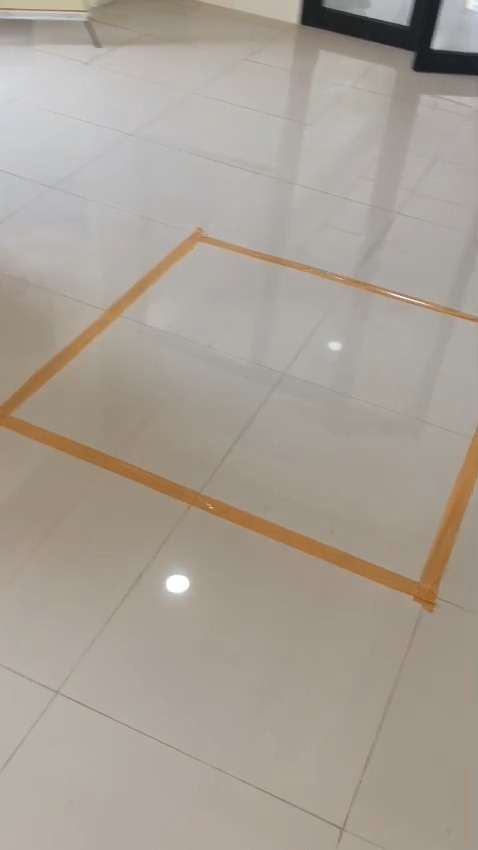floor marking: (0, 228, 477, 609)
